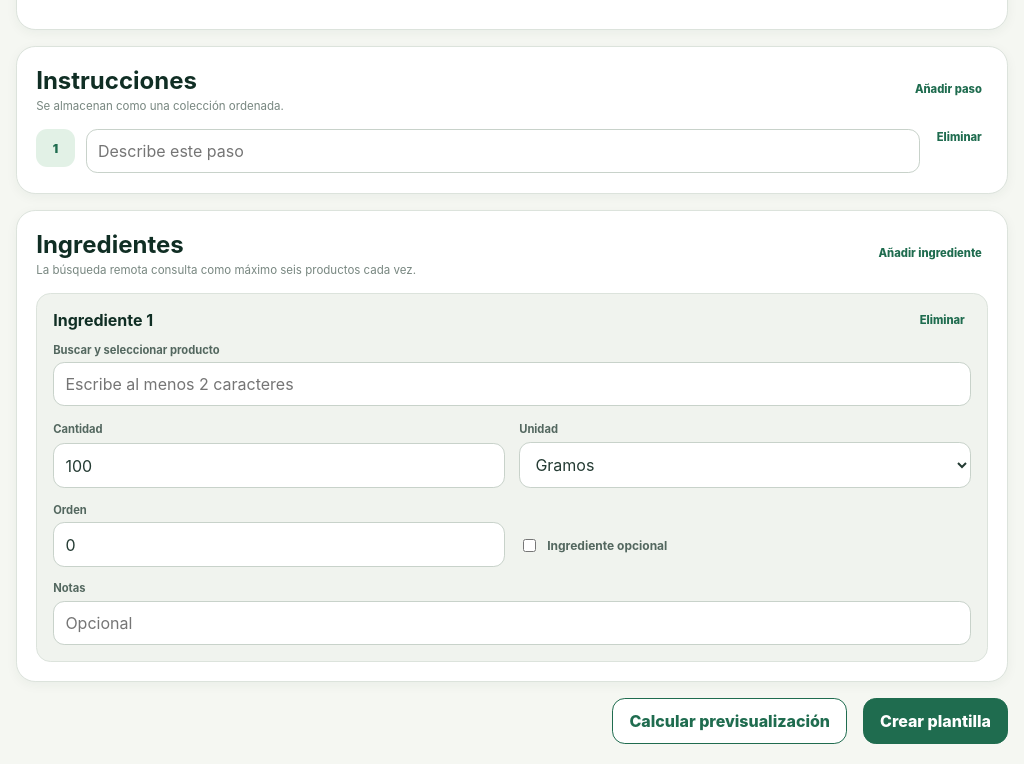
Test case: MealTemplateFormPage › uses a debounced remote product selector and infers the compatible unit
(page scrolled)
Type "ar" into the search field named "Buscar producto del ingrediente 1" at (512, 384), box [53,362,971,406]
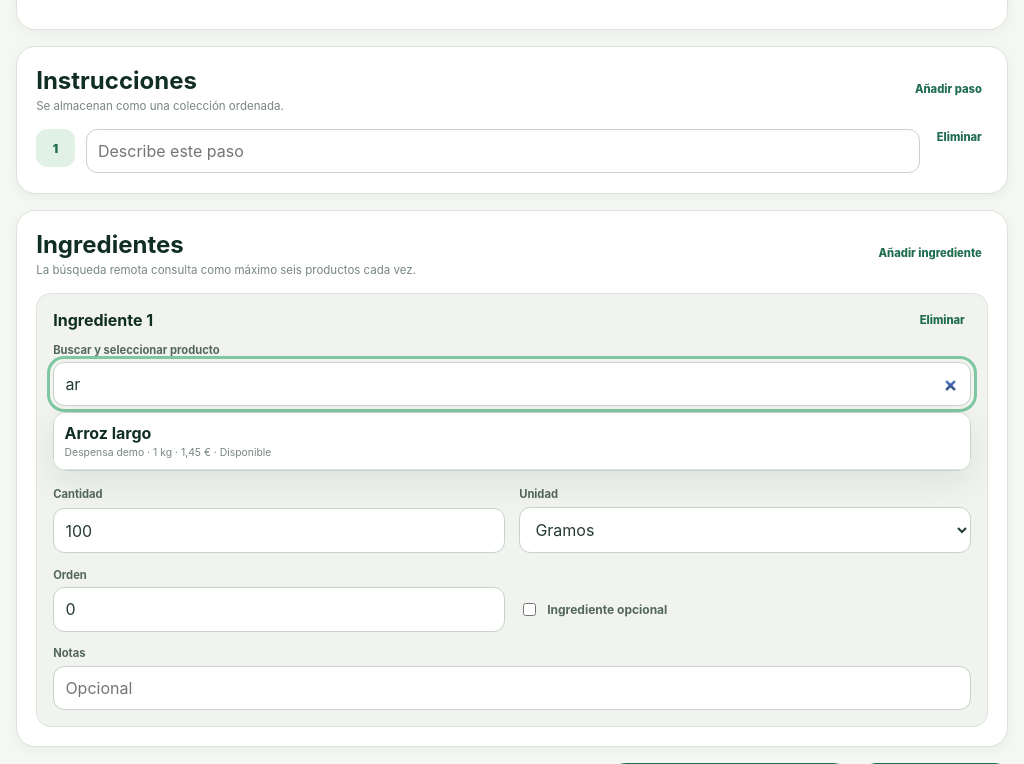
Click the button "Arroz largo Despensa demo · 1 kg · 1,45 € · Disponible" at (108, 433), box [54,413,970,470]
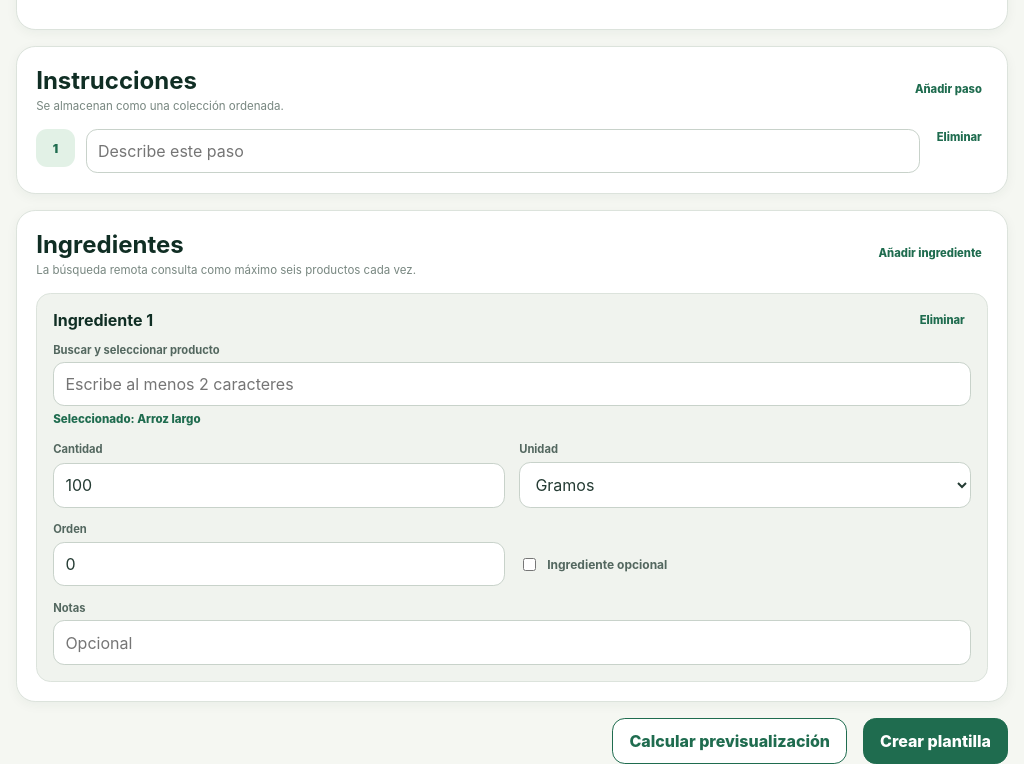
Expected: the dropdown labelled "Unidad" shows "Gramos", [519,462,971,508]
Expected: the text "Seleccionado: Arroz largo" is shown, [53,412,200,426]
